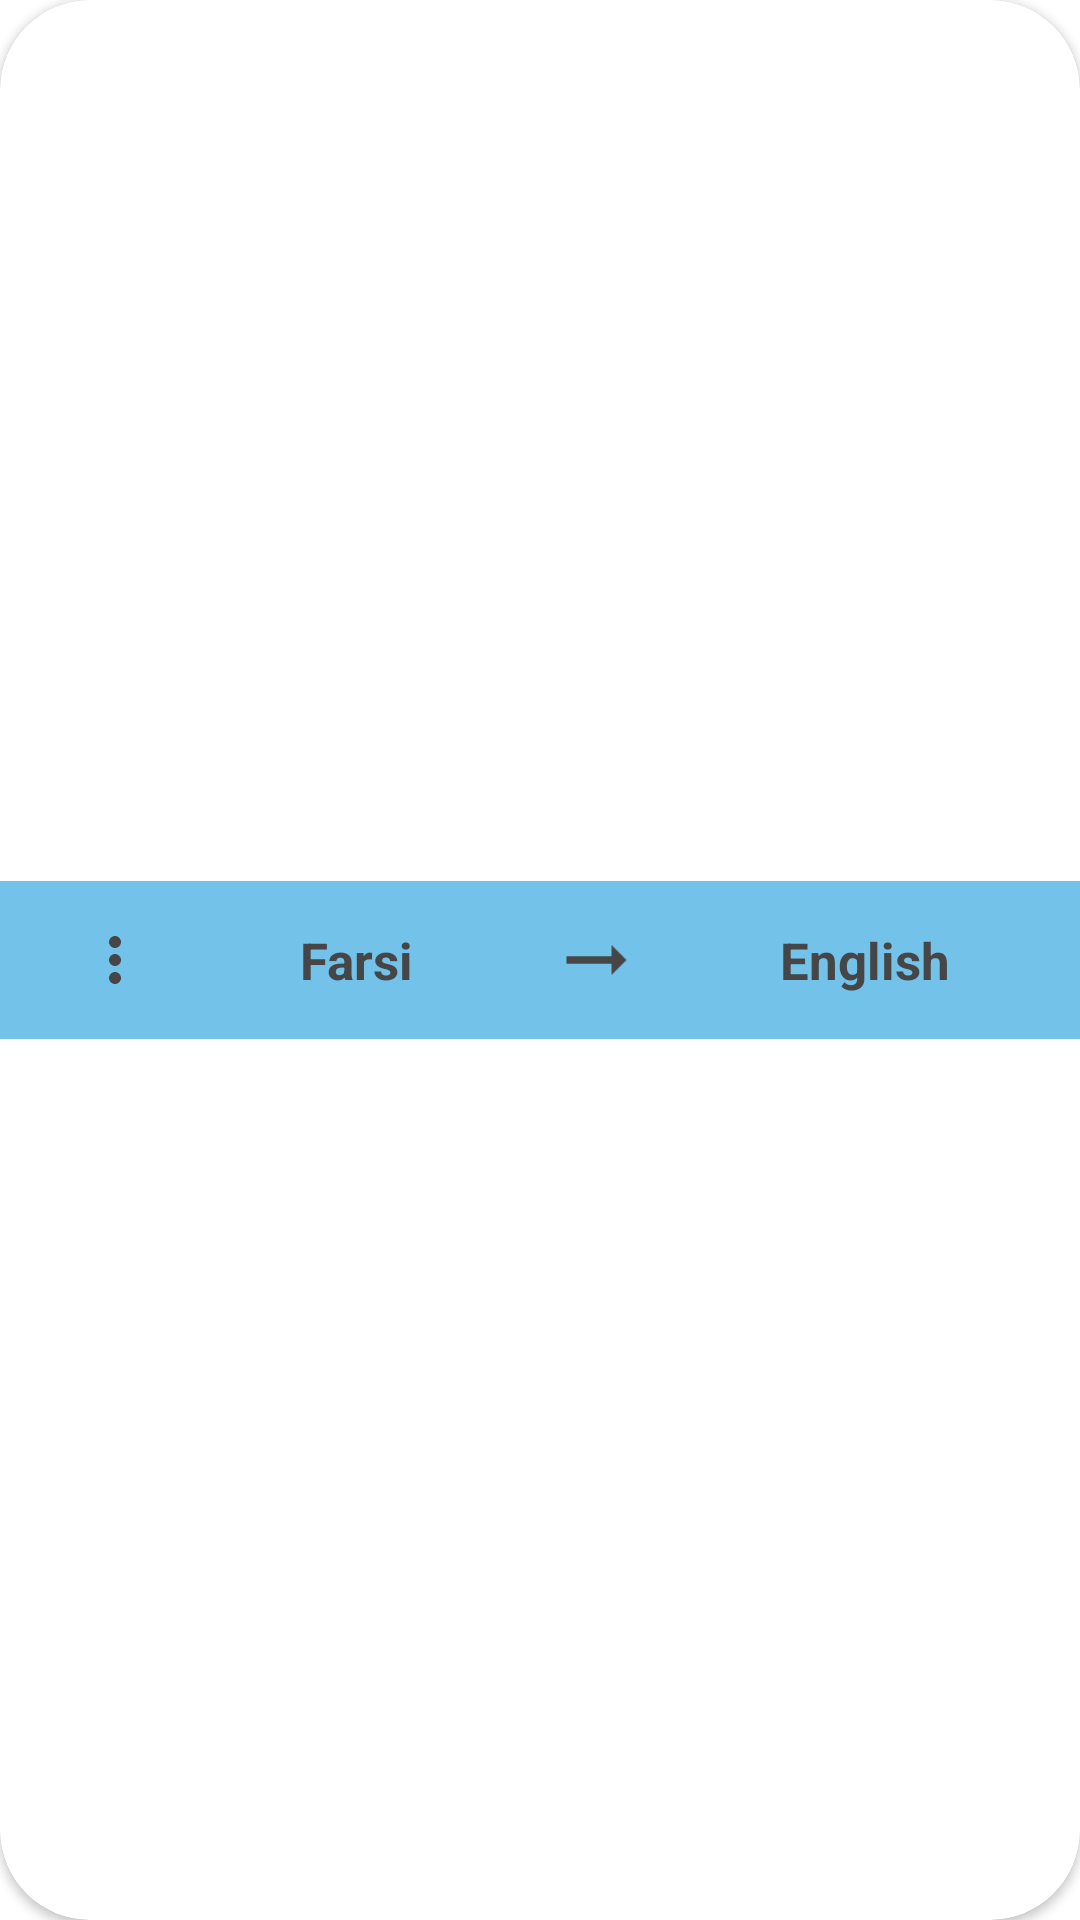

Icon click points for this 1080x1920 phone screenshot, format point (x, y):
arrow right: point (596, 960)
more: point (115, 960)
